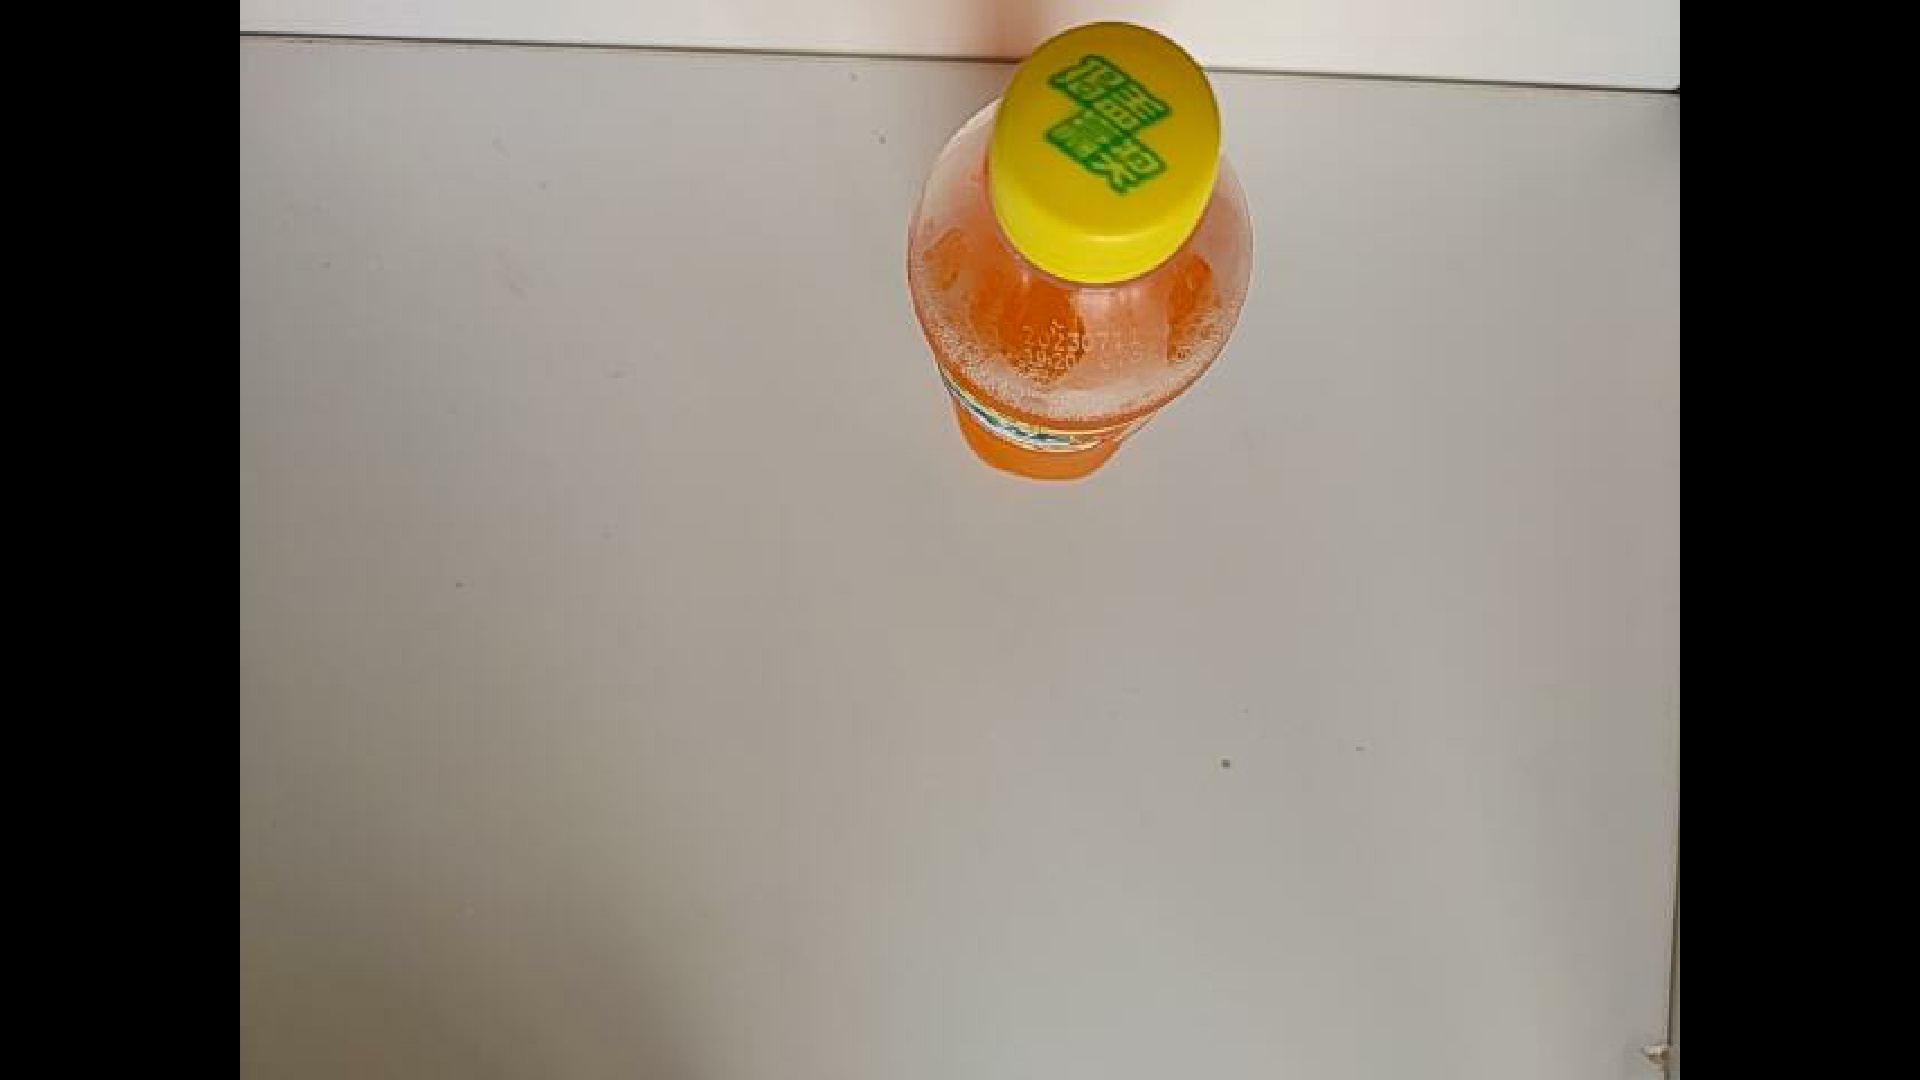fenta: (902, 20, 1255, 487)
